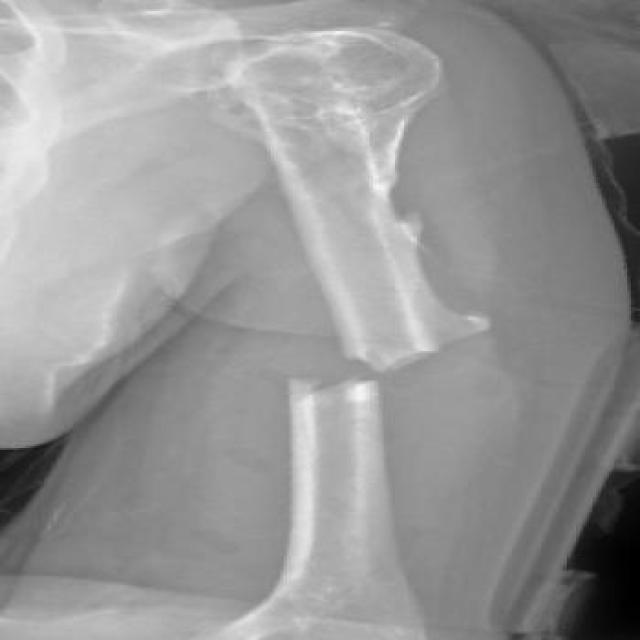Fracture: (266, 318, 487, 415)
